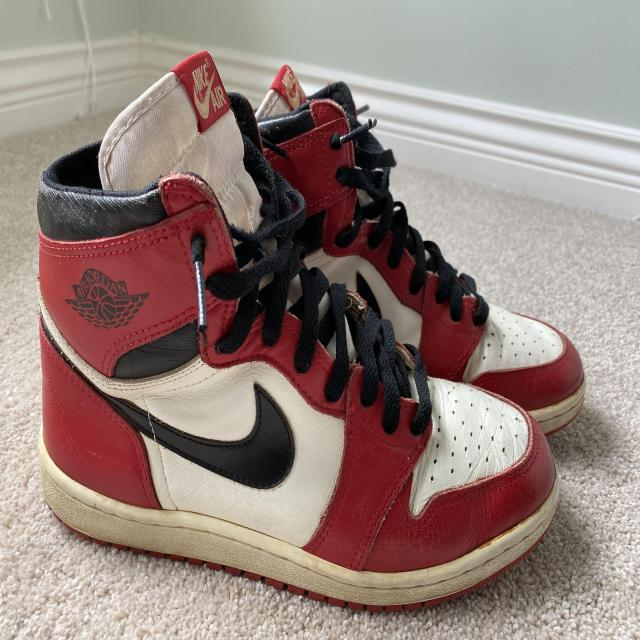shoe: (26, 45, 564, 624), (226, 57, 610, 447)
